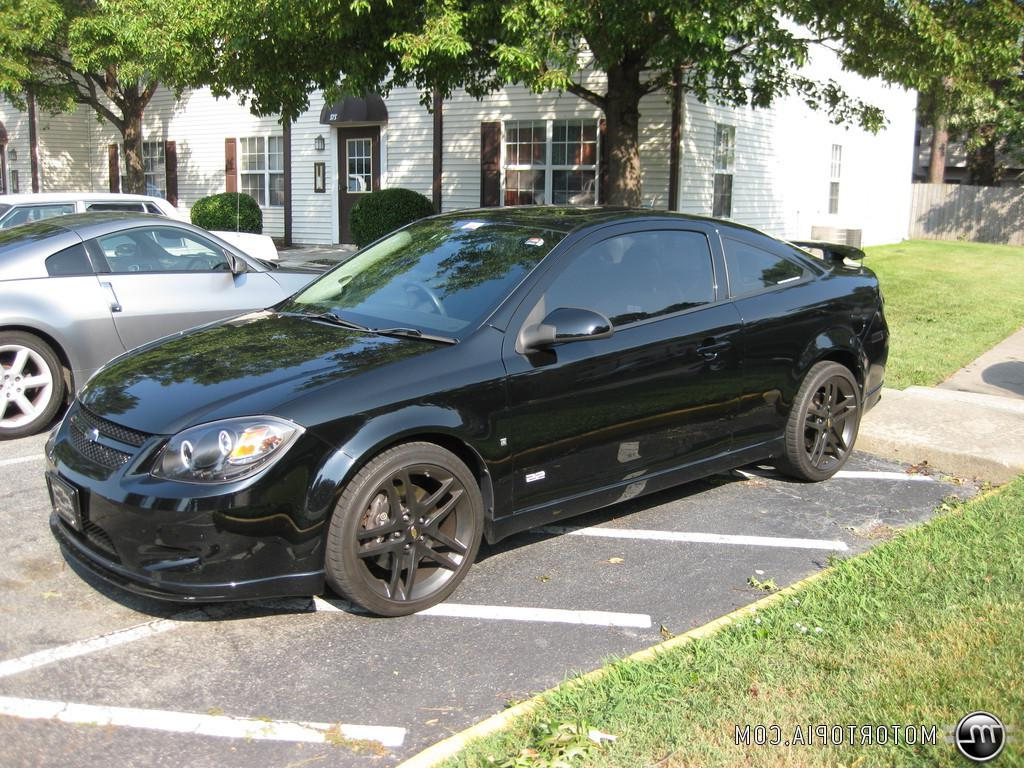Car: (43, 185, 896, 643), (2, 211, 337, 454)
